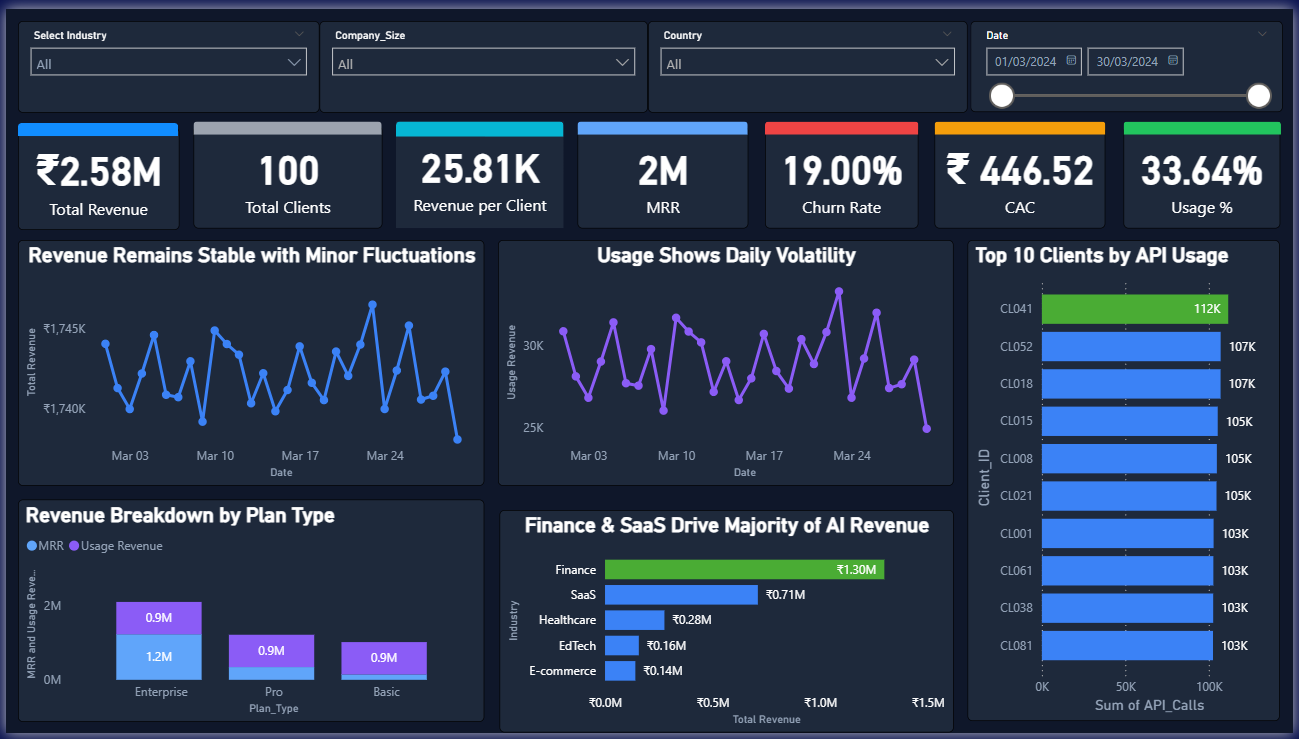

What the dashboard file says about the page in this screenshot:
{"tool":"powerbi","page":{"name":"Page 1","canvas":[1280,720],"ordinal":0},"visuals":[{"type":"lineChart","title":"Revenue Remains Stable with Minor Fluctuations","fields":{"Category":["intellicore_api_usage.Date"],"Y":["intellicore_subscriptions.Total Revenue"]},"box":[12.5,230.4,464.3,244.6],"z":0},{"type":"lineChart","title":"Usage Shows Daily Volatility","fields":{"Category":["intellicore_api_usage.Date"],"Y":["intellicore_api_usage.Usage Revenue"]},"box":[489.3,230.4,453.6,244.6],"z":1000},{"type":"columnChart","title":"Revenue Breakdown by Plan Type","fields":{"Category":["intellicore_subscriptions.Plan_Type"],"Y":["intellicore_subscriptions.MRR","intellicore_api_usage.Usage Revenue"]},"box":[12.5,487.5,464.3,221.4],"z":2000},{"type":"clusteredBarChart","title":"Finance & SaaS Drive Majority of AI Revenue","fields":{"Category":["intellicore_clients.Industry"],"Y":["intellicore_subscriptions.Total Revenue"]},"box":[491.1,487.5,451.8,221.4],"z":3000},{"type":"clusteredBarChart","title":"Top 10 Clients by API Usage","fields":{"Category":["intellicore_api_usage.Client_ID"],"Y":["Sum(intellicore_api_usage.API_Calls)"]},"box":[957.1,230.4,310.7,478.6],"z":4000},{"type":"slicer","fields":{"Values":["intellicore_clients.Industry"]},"box":[12.5,12.5,300,91.1],"z":5000},{"type":"slicer","fields":{"Values":["intellicore_clients.Company_Size"]},"box":[312.5,12.5,326.8,91.1],"z":6000},{"type":"slicer","fields":{"Values":["intellicore_clients.Country"]},"box":[639.3,12.5,317.9,91.1],"z":7000},{"type":"slicer","fields":{"Values":["intellicore_api_usage.Date"]},"box":[959.1,12.1,310.6,90.9],"z":8000},{"type":"group","id":"g1","title":"Group 1","box":[11.8,113.7,158.8,105.9],"z":9000},{"type":"card","fields":{"Values":["intellicore_clients.Total Clients"]},"box":[186.3,115.8,188.2,101.8],"z":9000,"group":"g6"},{"type":"card","fields":{"Values":["intellicore_subscriptions.Total Revenue"]},"box":[12,117.8,160.6,101.8],"z":9000,"group":"g1"},{"type":"group","id":"g2","title":"Group 2","box":[568.6,111.8,170.6,105.9],"z":10000},{"type":"card","fields":{"Values":["intellicore_subscriptions.MRR"]},"box":[568.8,115.8,170.2,101.9],"z":10000,"group":"g2"},{"type":"shape","box":[186.3,111.8,187.2,13.1],"z":11000,"group":"g6"},{"type":"group","id":"g3","title":"Group 3","box":[754.9,111.8,152.9,105.9],"z":11000},{"type":"card","fields":{"Values":["intellicore_subscriptions.Churn Rate"]},"box":[755.1,115.8,152.8,101.9],"z":11000,"group":"g3"},{"type":"group","id":"g4","title":"Group 4","box":[923.5,111.8,170.6,105.9],"z":12000},{"type":"card","fields":{"Values":["Intellicore_Marketing.CAC"]},"box":[923.5,115.8,170.2,101.9],"z":12000,"group":"g4"},{"type":"group","id":"g5","title":"Group 5","box":[1111.8,111.8,156.9,105.9],"z":13000},{"type":"card","fields":{"Values":["intellicore_api_usage.Usage %"]},"box":[1111.8,115.8,156.2,101.9],"z":13000,"group":"g5"},{"type":"group","id":"g6","title":"Group 6","box":[186.3,111.8,186.3,105.9],"z":14000},{"type":"shape","box":[11.8,113.7,159.4,13.2],"z":14001,"group":"g1"},{"type":"shape","box":[568.6,111.8,169.3,13.1],"z":14002,"group":"g2"},{"type":"shape","box":[754.9,111.8,152.8,13.1],"z":14003,"group":"g3"},{"type":"shape","box":[923.9,111.8,170.2,13.1],"z":14006,"group":"g4"},{"type":"shape","box":[1111.8,111.8,156.8,13.1],"z":14008,"group":"g5"},{"type":"card","fields":{"Values":["intellicore_clients.Revenue per Client"]},"box":[388.3,111.8,166.7,105.9],"z":15000,"group":"g7"},{"type":"shape","box":[387.9,112.2,166.7,15.2],"z":15001,"group":"g7"},{"type":"group","id":"g7","title":"Group 7","box":[387.9,111.8,167,105.9],"z":15002}]}

Visuals, with their boxes in screenshot pixels (x1, y1, x2, y2), scaled from the page's 1280x720 canvas onto the 1299x739 screenshot:
"Revenue Remains Stable with Minor Fluctuations" lineChart: (13,236,484,488)
"Usage Shows Daily Volatility" lineChart: (497,236,957,488)
"Revenue Breakdown by Plan Type" columnChart: (13,500,484,728)
"Finance & SaaS Drive Majority of AI Revenue" clusteredBarChart: (498,500,957,728)
"Top 10 Clients by API Usage" clusteredBarChart: (971,236,1287,728)
slicer - intellicore_clients.Industry: (13,13,317,106)
slicer - intellicore_clients.Company_Size: (317,13,649,106)
slicer - intellicore_clients.Country: (649,13,971,106)
slicer - intellicore_api_usage.Date: (973,12,1289,106)
"Group 1" group: (12,117,173,225)
card - intellicore_clients.Total Clients: (189,119,380,223)
card - intellicore_subscriptions.Total Revenue: (12,121,175,225)
"Group 2" group: (577,115,750,223)
card - intellicore_subscriptions.MRR: (577,119,750,223)
shape: (189,115,379,128)
"Group 3" group: (766,115,921,223)
card - intellicore_subscriptions.Churn Rate: (766,119,921,223)
"Group 4" group: (937,115,1110,223)
card - Intellicore_Marketing.CAC: (937,119,1110,223)
"Group 5" group: (1128,115,1288,223)
card - intellicore_api_usage.Usage %: (1128,119,1287,223)
"Group 6" group: (189,115,378,223)
shape: (12,117,174,130)
shape: (577,115,749,128)
shape: (766,115,921,128)
shape: (938,115,1110,128)
shape: (1128,115,1287,128)
card - intellicore_clients.Revenue per Client: (394,115,563,223)
shape: (394,115,563,131)
"Group 7" group: (394,115,563,223)
